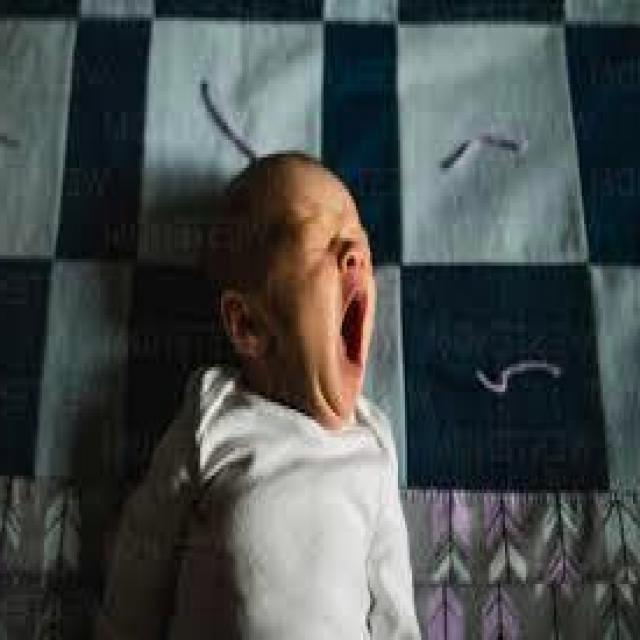child: (193, 154, 407, 424)
